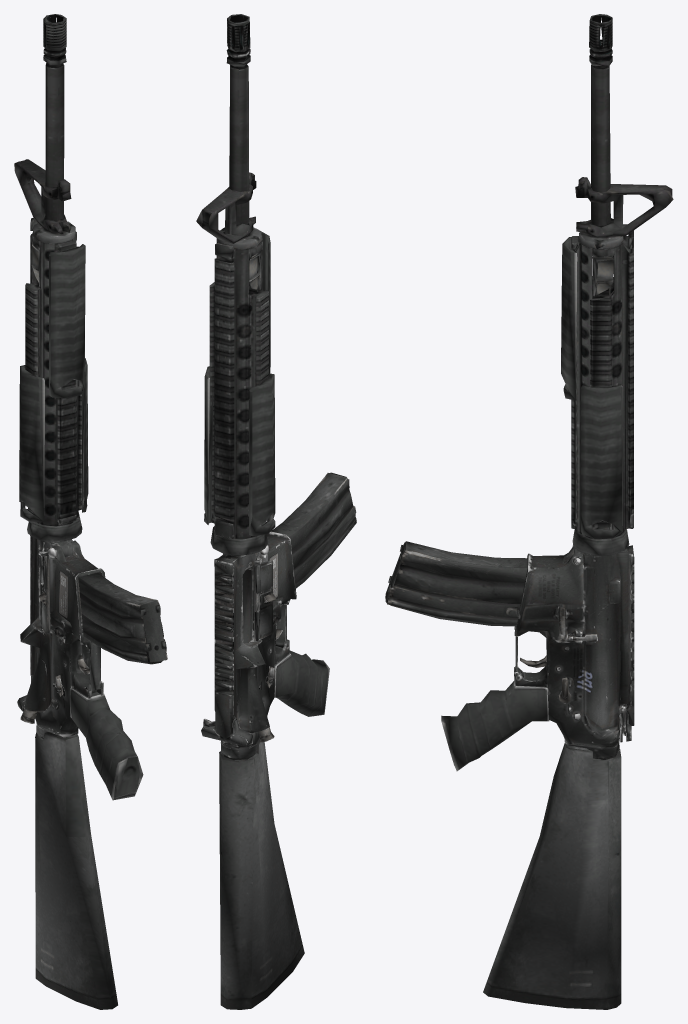
Rendered from AssaultRifle.fbx.
The picture shows the model from 3 angles, left to right: view 1: azimuth 30°, elevation 25°; view 2: azimuth 150°, elevation 25°; view 3: azimuth 270°, elevation 25°; orthographic projection. The views are drawn at different scales.
Visible parts, largest first — view 1: AssaultRifle; view 2: AssaultRifle; view 3: AssaultRifle.
Part boxes in pixels (x1,y1,x2,y2): AssaultRifle: [14, 14, 167, 1009]; AssaultRifle: [196, 14, 356, 1009]; AssaultRifle: [385, 14, 673, 1009].
Bounding box in the file's own units: 0.0438 × 0.6092 × 0.1617.
